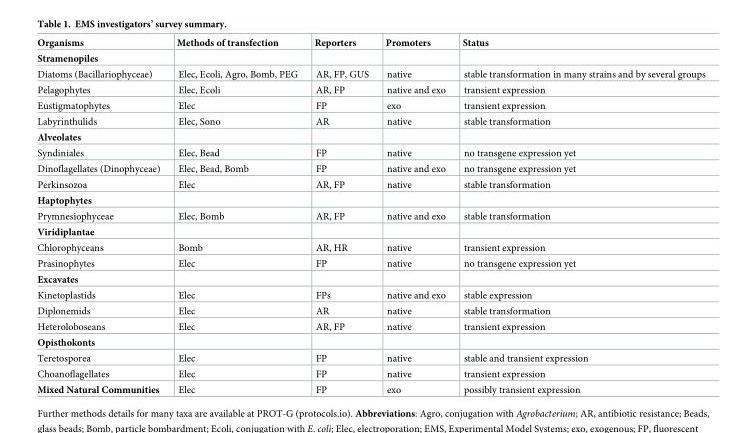table: (36, 37, 704, 394)
table column: (453, 37, 704, 394), (167, 37, 305, 394), (36, 37, 167, 394), (376, 37, 453, 394), (305, 37, 376, 394)
table column header: (36, 37, 704, 50)
table projected row header: (36, 192, 704, 208), (36, 223, 704, 239), (36, 334, 704, 350), (36, 50, 704, 65), (36, 129, 704, 144), (36, 271, 704, 286)
table row: (36, 65, 704, 81), (36, 81, 704, 97), (36, 97, 704, 113), (36, 113, 704, 129), (36, 144, 704, 160), (36, 160, 704, 176), (36, 176, 704, 192), (36, 192, 704, 208), (36, 223, 704, 239), (36, 239, 704, 255), (36, 255, 704, 271), (36, 286, 704, 302), (36, 302, 704, 318), (36, 318, 704, 334), (36, 334, 704, 350), (36, 365, 704, 381), (36, 50, 704, 65), (36, 129, 704, 144), (36, 208, 704, 223), (36, 271, 704, 286), (36, 350, 704, 365), (36, 37, 704, 50), (36, 381, 704, 394)
